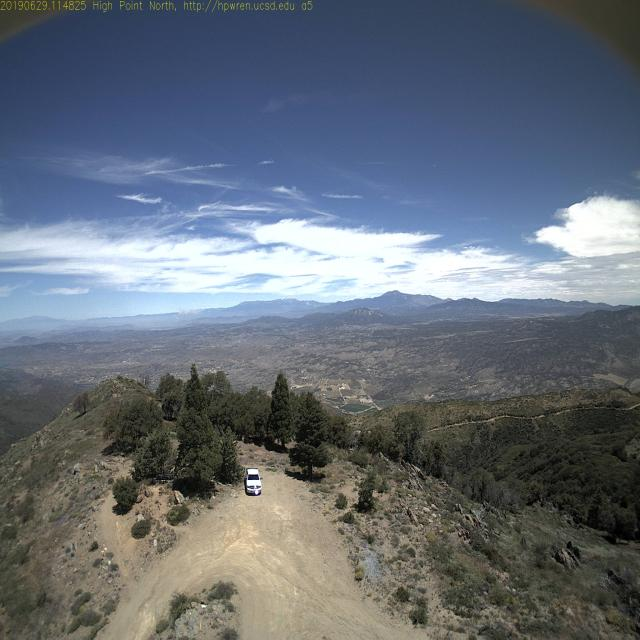smoke: (170, 298, 206, 332)
